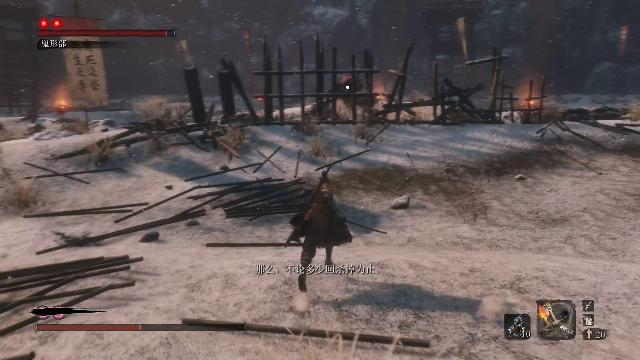sk: (283, 168, 356, 299)
